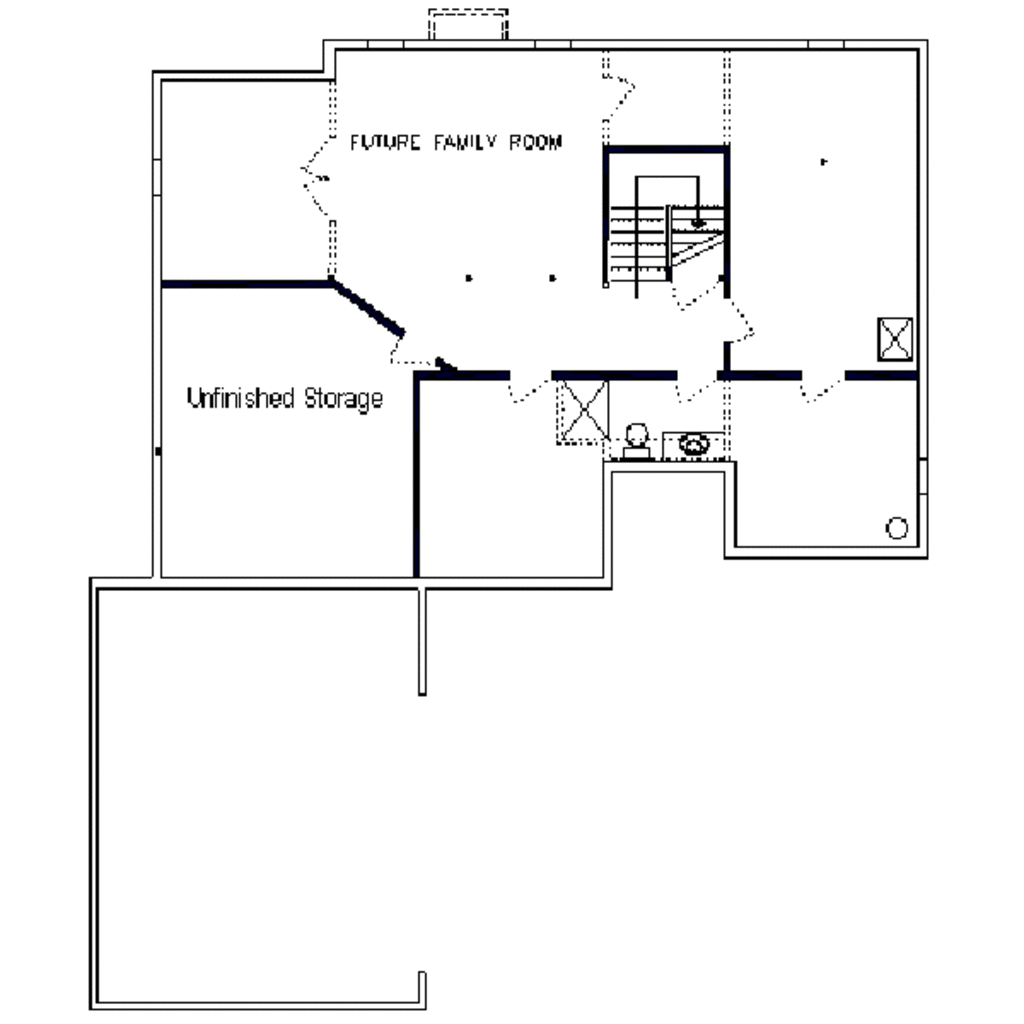door: (300, 136, 336, 221), (723, 288, 762, 346), (597, 72, 639, 119), (500, 370, 553, 407)
large_sink: (615, 418, 658, 464)
small_sink: (660, 429, 735, 461)
stairs: (609, 146, 729, 291)
